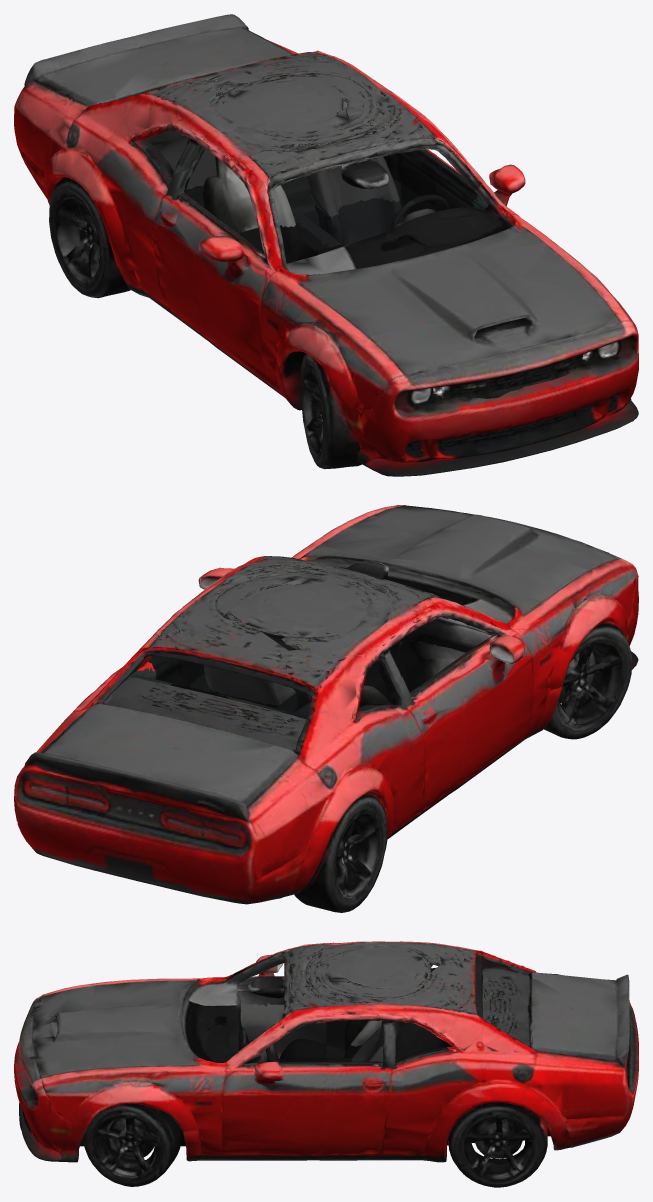
Rendered from car-mobile.glb.
The picture shows the model from 3 angles, top to bottom: view 1: azimuth 30°, elevation 25°; view 2: azimuth 150°, elevation 25°; view 3: azimuth 270°, elevation 25°; orthographic projection. The views are drawn at different scales.
Parts seen in each view (by area): view 1: tmp4v61aslaobj; view 2: tmp4v61aslaobj; view 3: tmp4v61aslaobj.
Part boxes in pixels (left/top/right/bottom): tmp4v61aslaobj: left=14, top=14, right=638, bottom=476; tmp4v61aslaobj: left=14, top=505, right=638, bottom=912; tmp4v61aslaobj: left=14, top=941, right=638, bottom=1187.
Bounding box in the file's own units: 0.4526 × 0.2954 × 0.9999.
1 material, 1 textured.
